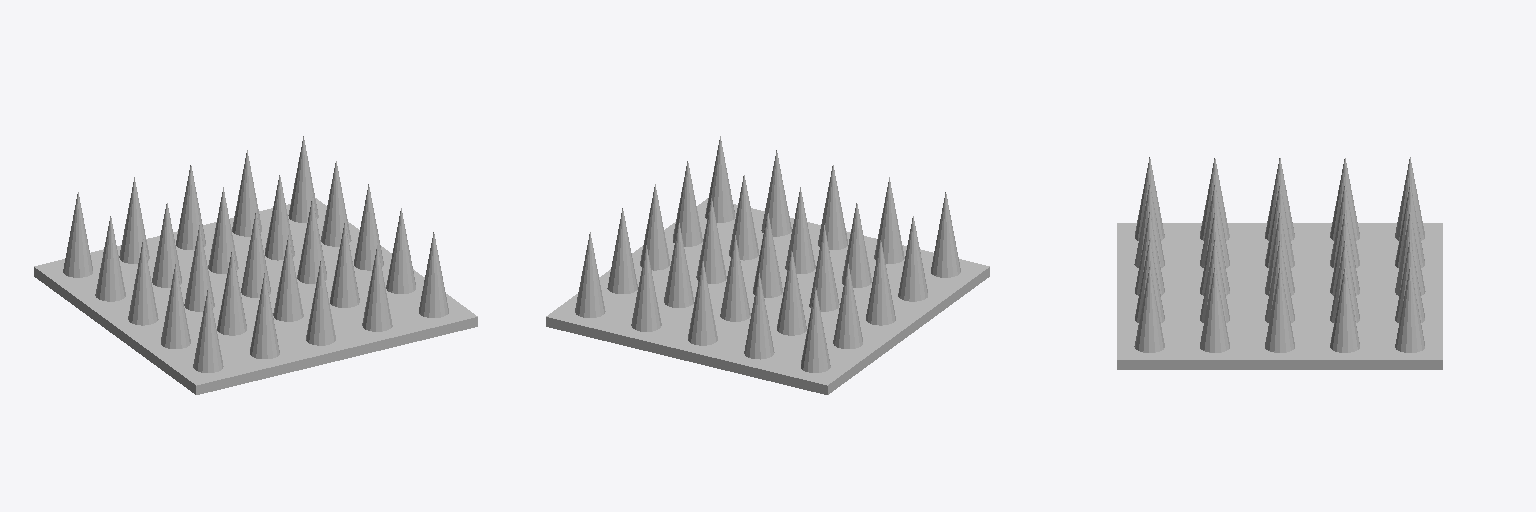
Rendered from spikes.obj.
3 views of the same model, side by side, from view 1: azimuth 30°, elevation 25°; view 2: azimuth 150°, elevation 25°; view 3: azimuth 270°, elevation 25° (orthographic).
Visible parts, largest first — view 1: OPM0041; view 2: OPM0041; view 3: OPM0041.
Part boxes in pixels (bbox=[...]): OPM0041: bbox=[34, 136, 477, 394]; OPM0041: bbox=[546, 136, 989, 394]; OPM0041: bbox=[1117, 157, 1442, 369].
Size of the model in its own units: 0.6 by 0.1851 by 0.6.